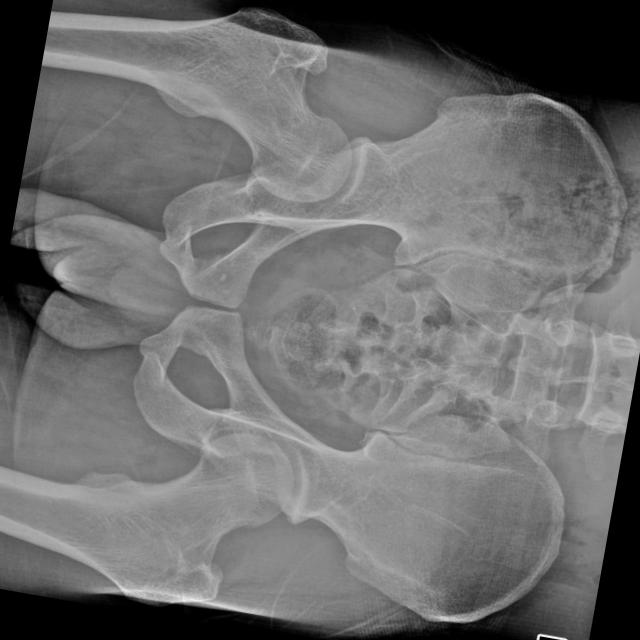normal-left: (0, 433, 292, 606)
normal-right: (40, 7, 350, 203)
